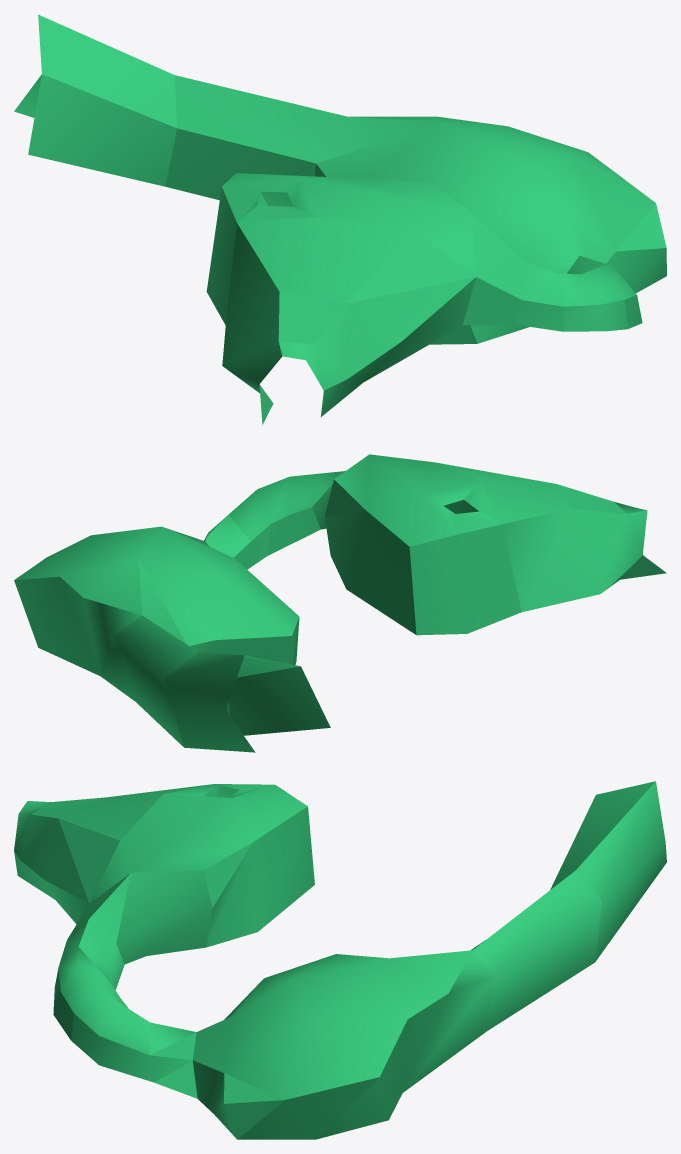
Rendered from cluster_3.fbx.
3 renders of one model, top to bottom at view 1: azimuth 30°, elevation 25°; view 2: azimuth 150°, elevation 25°; view 3: azimuth 270°, elevation 25°, orthographic. The views are drawn at different scales.
Parts seen in each view (by area): view 1: cluster_3; view 2: cluster_3; view 3: cluster_3.
Part boxes in pixels (x1,y1,x2,y2): cluster_3: (14,14,666,424); cluster_3: (14,454,666,752); cluster_3: (14,781,666,1139).
Size of the model in its own units: 150115 by 56024 by 172611.
